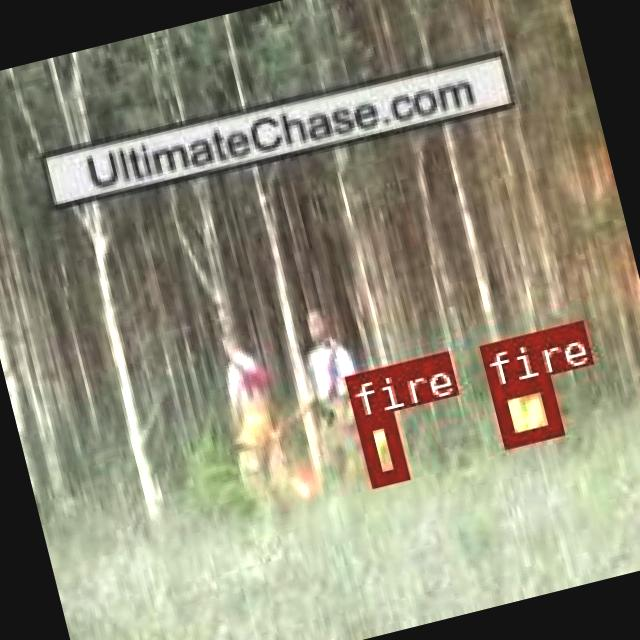fire: (489, 375, 560, 446), (354, 411, 404, 484)
